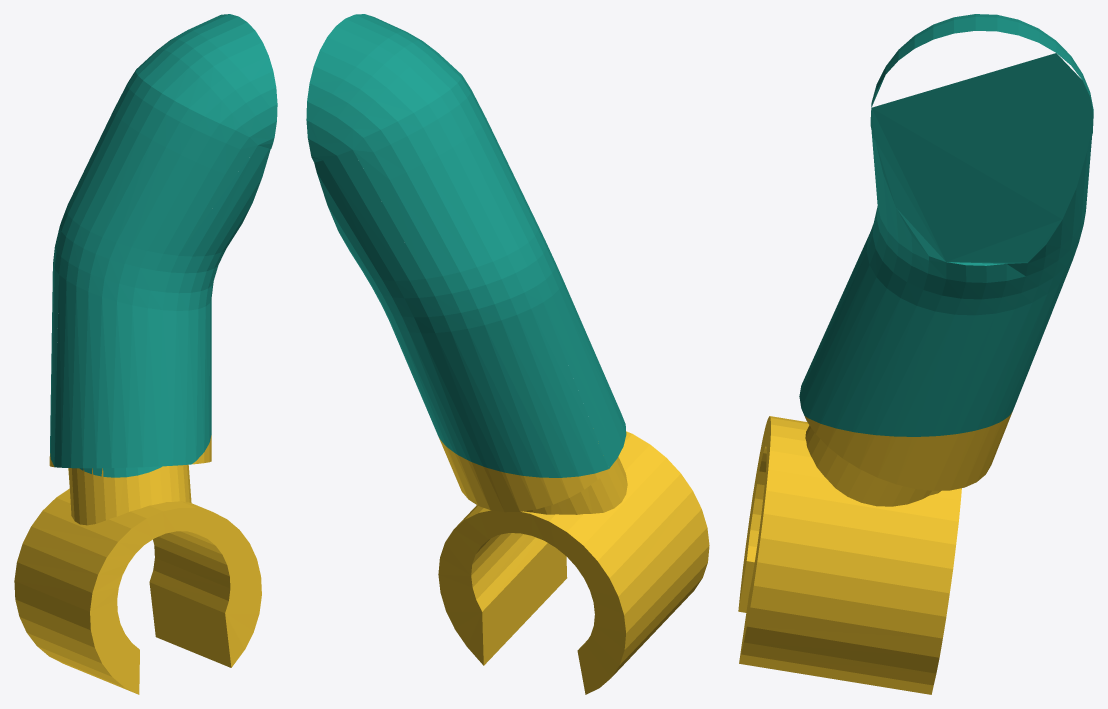
The model's file is armL.glb.
3 renders of one model, left to right at view 1: azimuth 30°, elevation 25°; view 2: azimuth 150°, elevation 25°; view 3: azimuth 270°, elevation 25°, orthographic. The views are drawn at different scales.
Parts seen in each view (by area): view 1: player_armL; view 2: player_armL; view 3: player_armL.
Boxes of the visible parts, <box> form: player_armL: <box>14,14,277,694</box>; player_armL: <box>306,14,709,694</box>; player_armL: <box>738,14,1093,694</box>.
Bounding box in the file's own units: 0.325 × 0.7369 × 0.322.
